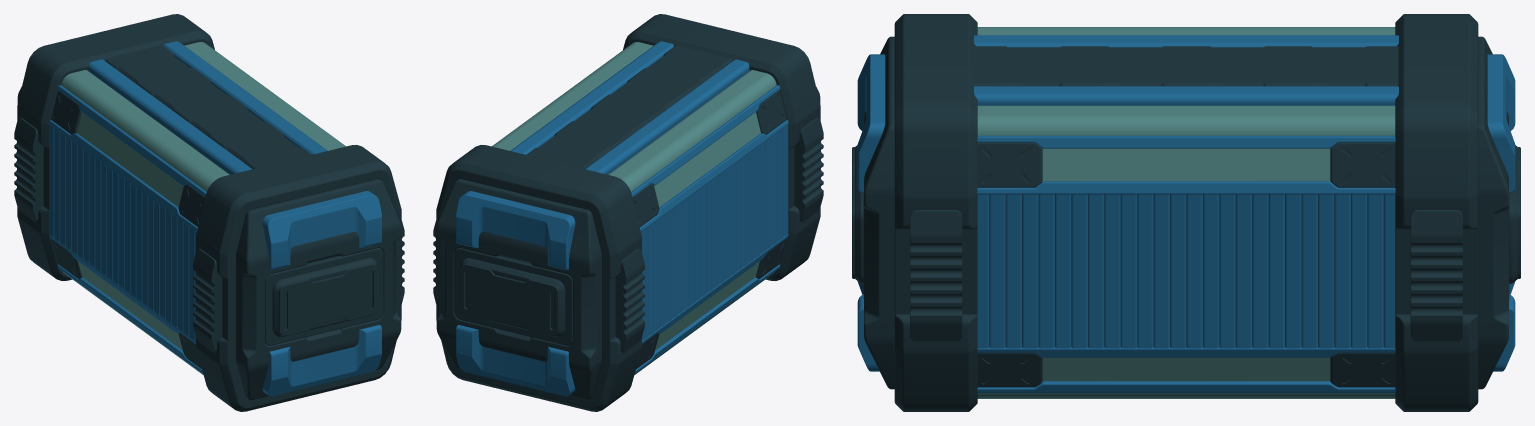
Rendered from container.glb.
3 views of the same model, side by side, from view 1: azimuth 30°, elevation 25°; view 2: azimuth 150°, elevation 25°; view 3: azimuth 270°, elevation 25° (orthographic). The views are drawn at different scales.
Visible parts, largest first — view 1: 13; view 2: 13; view 3: 13.
Part boxes in pixels (x1,y1,x2,y2): 13: (14, 14, 404, 411); 13: (433, 14, 823, 411); 13: (852, 14, 1520, 411).
Bounding box in the file's own units: 2.01 × 2.17 × 4.3.
